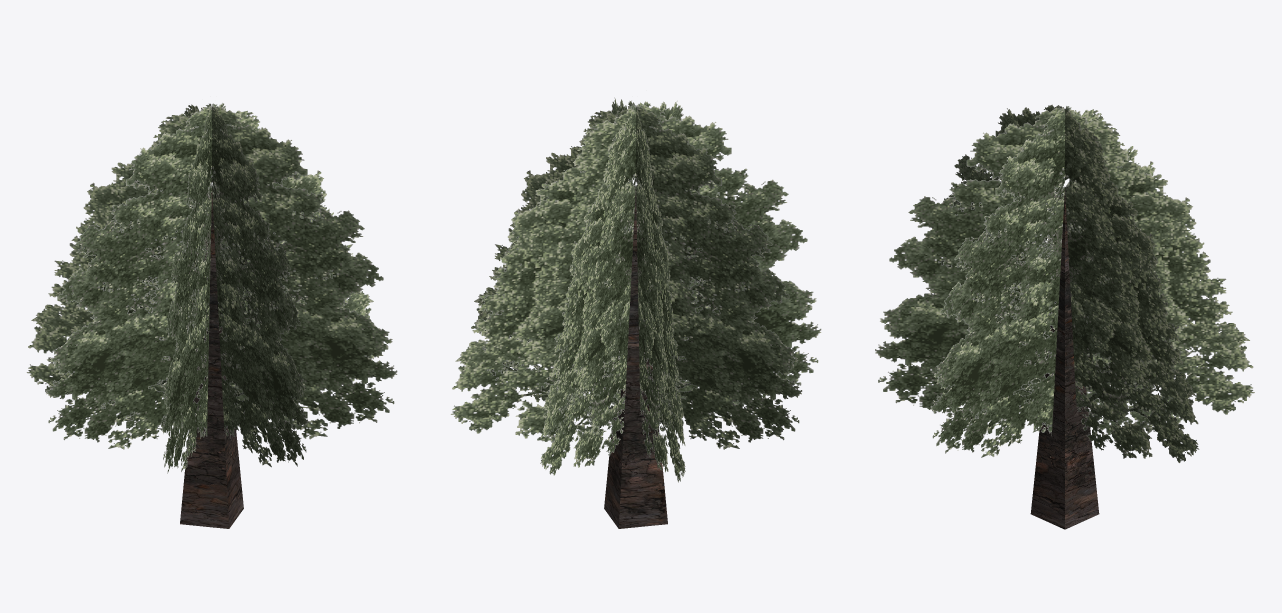
File: drvo 2.fbx
3 renders of one model, left to right at view 1: azimuth 30°, elevation 25°; view 2: azimuth 150°, elevation 25°; view 3: azimuth 270°, elevation 25°, orthographic.
Visible parts, largest first — view 1: Plane.003, Plane, Plane.001, Plane.002, Cone; view 2: Plane.002, Plane, Plane.001, Plane.003, Cone; view 3: Plane.001, Plane.003, Plane.002, Cone.
Boxes of the visible parts, x1=… form: Plane.003: x1=26, y1=104, x2=397, y2=455; Plane: x1=45, y1=104, x2=373, y2=449; Plane.001: x1=151, y1=103, x2=307, y2=467; Plane.002: x1=162, y1=103, x2=225, y2=473; Cone: x1=180, y1=185, x2=243, y2=528; Plane.002: x1=450, y1=104, x2=821, y2=442; Plane: x1=471, y1=104, x2=802, y2=449; Plane.001: x1=540, y1=100, x2=719, y2=475; Plane.003: x1=611, y1=97, x2=685, y2=482; Cone: x1=604, y1=185, x2=667, y2=528; Plane.001: x1=875, y1=106, x2=1254, y2=434; Plane.003: x1=930, y1=106, x2=1191, y2=457; Plane.002: x1=930, y1=104, x2=1199, y2=462; Cone: x1=1030, y1=190, x2=1099, y2=529.
Bounding box in the file's own units: 796 × 899 × 796.
4 materials, 4 textured.
